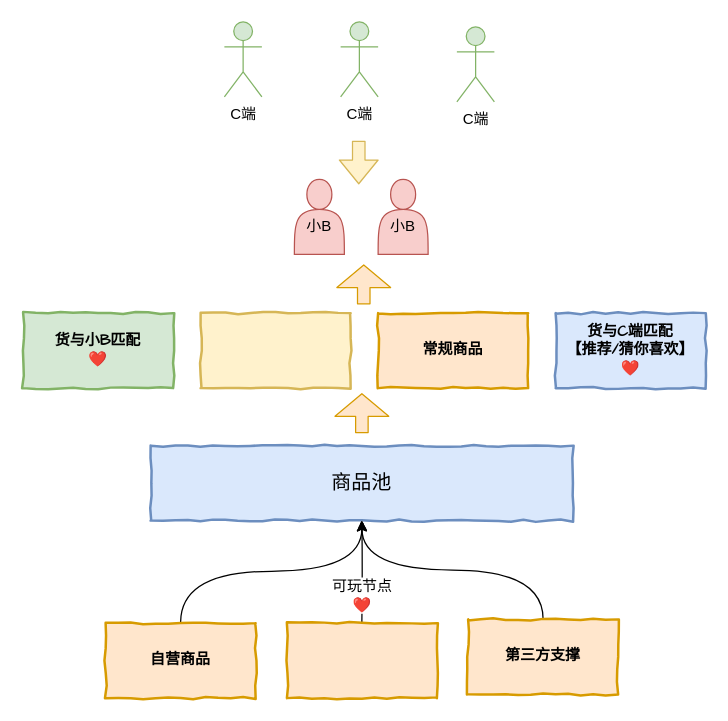
Some shapes in this 728 by 721 pixel diagram are drawn without their labels. The centre of each missing label's shape, as x and y in pixels:
供应商上架: (361,660)
运营/供应链打造爆品 ❤️: (275,350)
